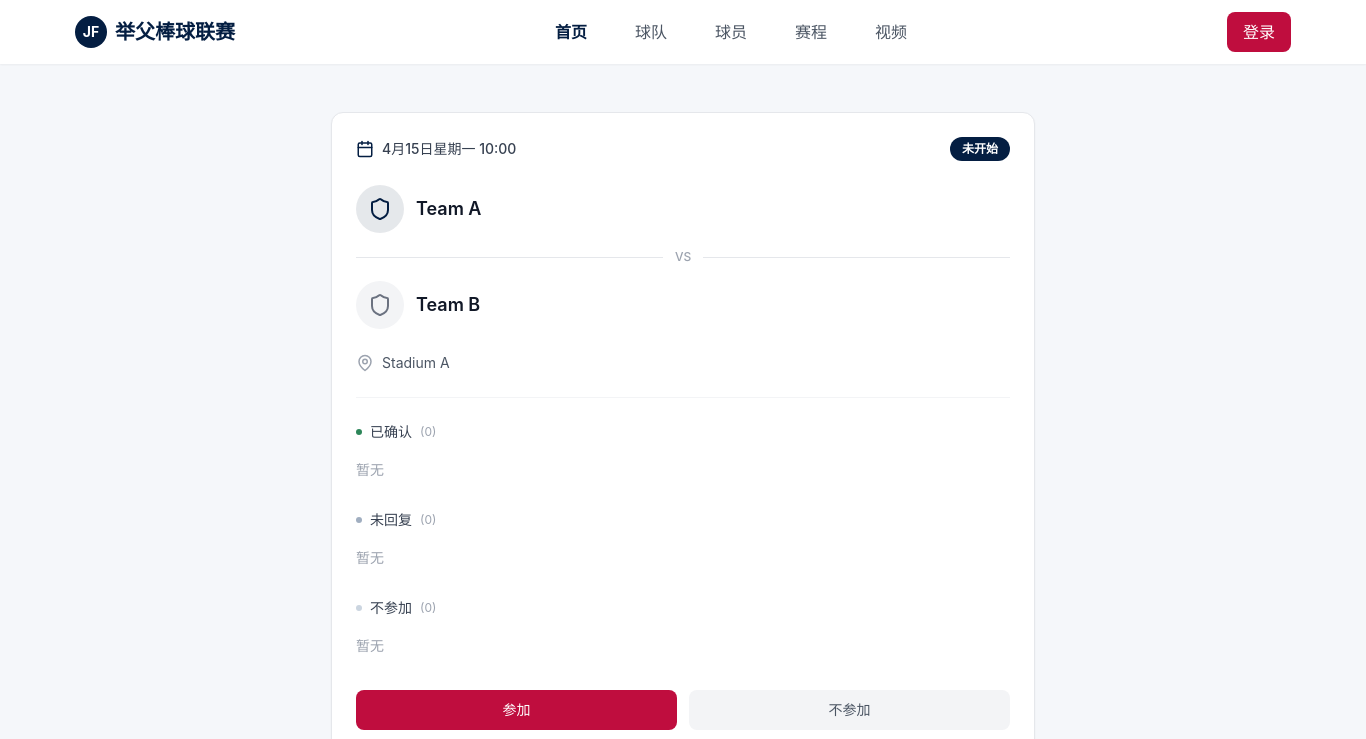
it: GameDetailPage › shows success animation on confirm
Click the button with test id "confirm-button" at (516, 710), box [356,690,677,730]
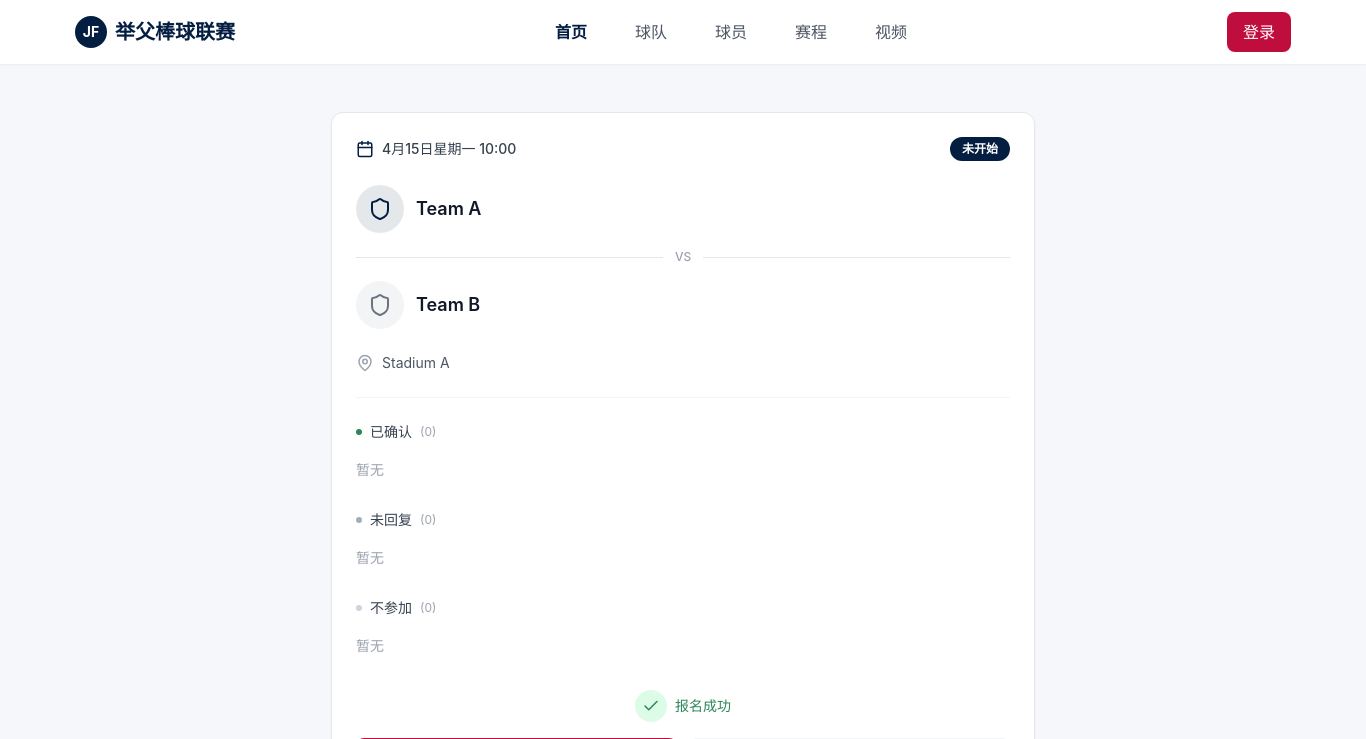
Expected: the text "报名成功" is shown, [675,696,731,716]
